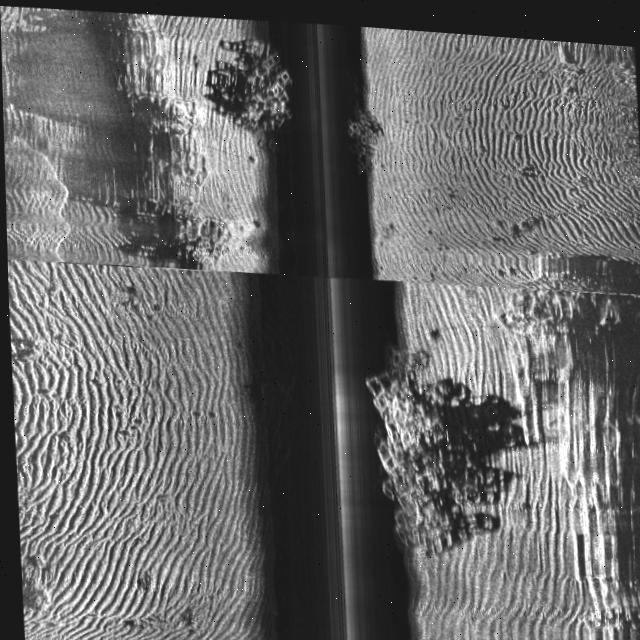artificial reef: (356, 345, 489, 546), (219, 20, 290, 151), (351, 92, 380, 174)
